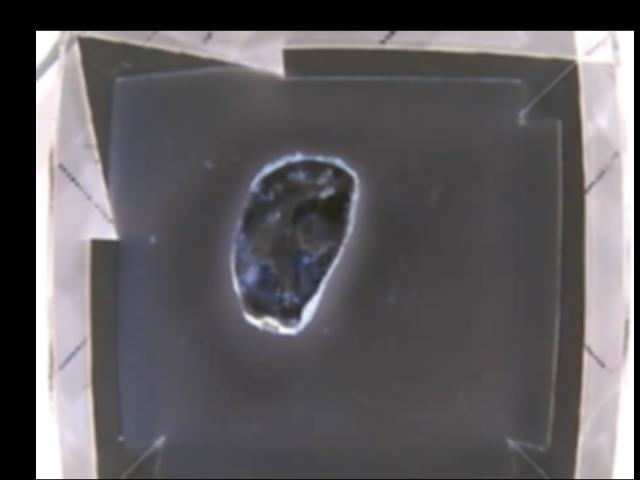Shell: (231, 152, 361, 338)
